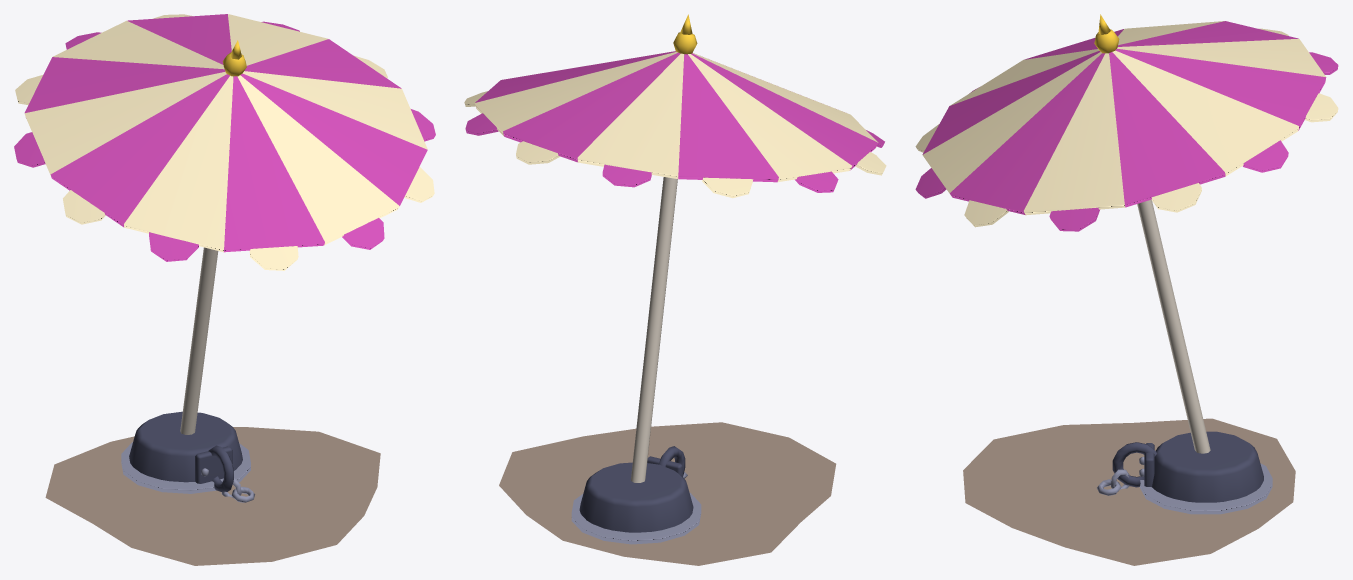
The model's file is beach_umbrella.glb.
The picture shows the model from 3 angles, left to right: view 1: azimuth 30°, elevation 25°; view 2: azimuth 150°, elevation 25°; view 3: azimuth 270°, elevation 25°; orthographic projection.
Parts seen in each view (by area): view 1: Umbrella; view 2: Umbrella; view 3: Umbrella.
Part boxes in pixels (x1,y1,x2,y2): Umbrella: (14, 14, 435, 565); Umbrella: (464, 14, 886, 565); Umbrella: (915, 14, 1338, 565).
Bounding box in the file's own units: 1.68 × 2.06 × 1.65.
